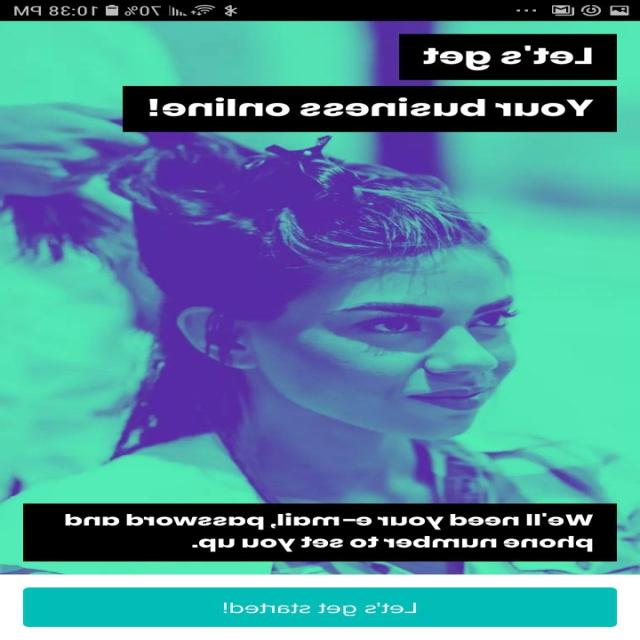Image: (1, 21, 640, 574)
Text: (66, 512, 594, 552), (150, 97, 595, 117), (423, 45, 593, 71)
TextButton: (23, 587, 617, 627)
